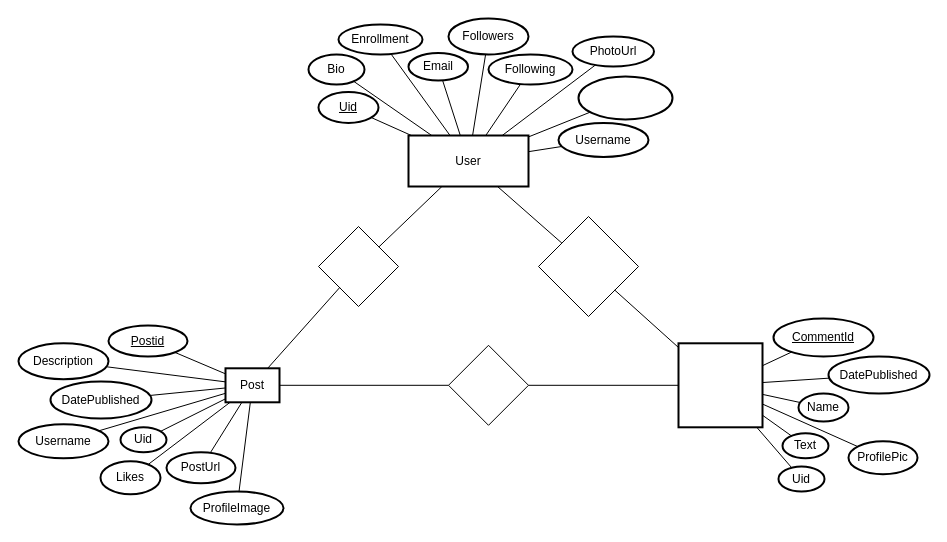
This 947x542 diagram has some shape labels left out. Each missing label, with the centre of its shape:
"Author" belongs at (x=358, y=266).
"Comment" belongs at (x=720, y=385).
"Commented by" belongs at (x=588, y=266).
"Comments" belongs at (x=488, y=384).
"Registration" belongs at (x=625, y=97).
